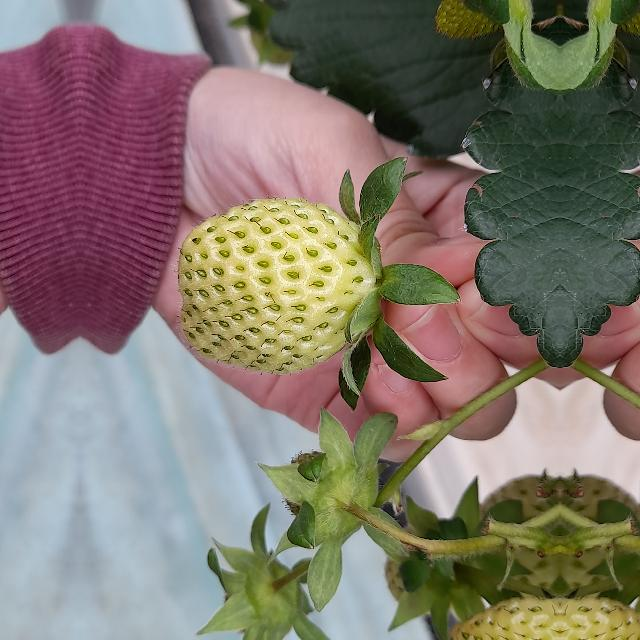Health_25: (177, 198, 375, 374)
